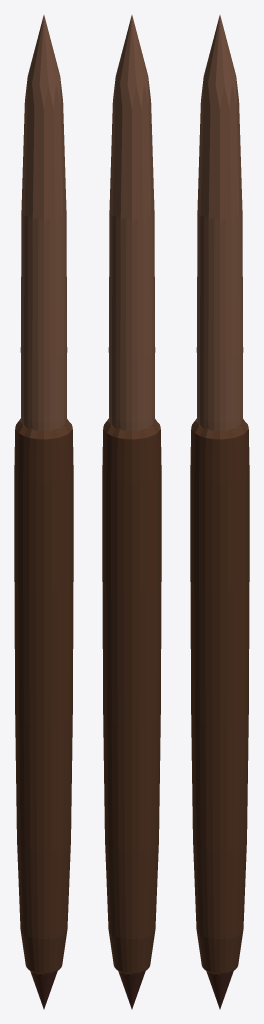
File: Wand 2.glb
3 views of the same model, side by side, from view 1: azimuth 30°, elevation 25°; view 2: azimuth 210°, elevation 25°; view 3: azimuth 330°, elevation 25° (orthographic).
Visible parts, largest first — view 1: GeneratedWand; view 2: GeneratedWand; view 3: GeneratedWand.
Boxes of the visible parts, box(x1,y1,x2,y2) form: GeneratedWand: box(14, 15, 73, 1009); GeneratedWand: box(102, 15, 161, 1009); GeneratedWand: box(190, 15, 249, 1009).
Bounding box in the file's own units: 0.0273 × 0.5064 × 0.0273.
